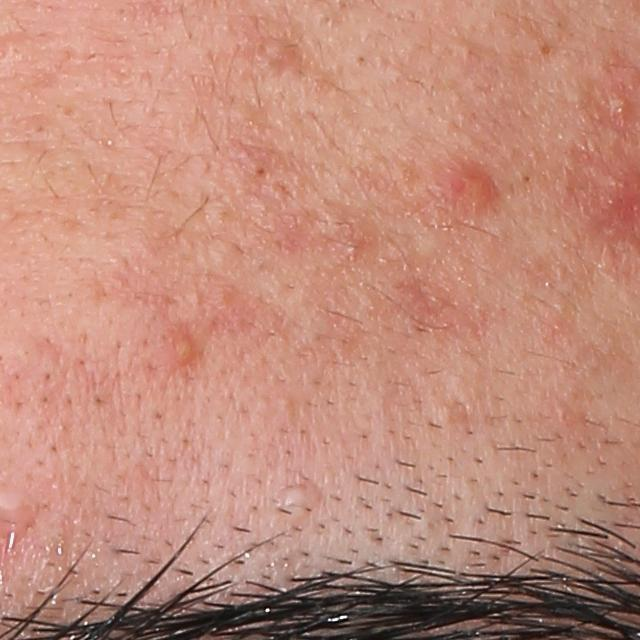comedo: (249, 161, 271, 180), (350, 51, 369, 70)
papule: (433, 164, 506, 211)
pustule: (168, 326, 201, 367)
